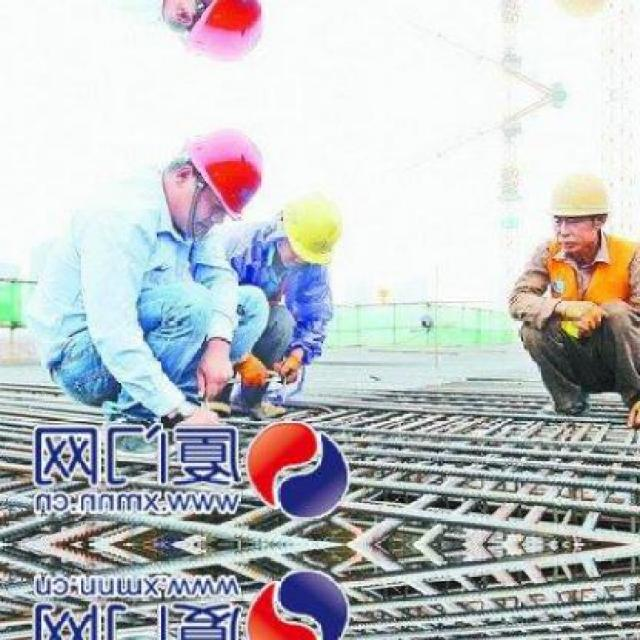Reflective-Jacket: (520, 234, 640, 351)
Safety-Helmet: (168, 120, 277, 225), (266, 182, 362, 276), (238, 564, 355, 640), (538, 163, 622, 229)
